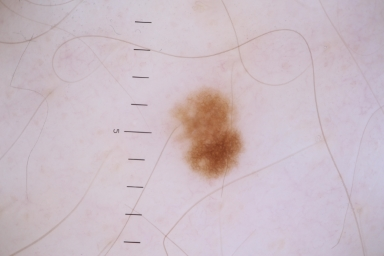melanoma: (173, 88, 241, 176)
